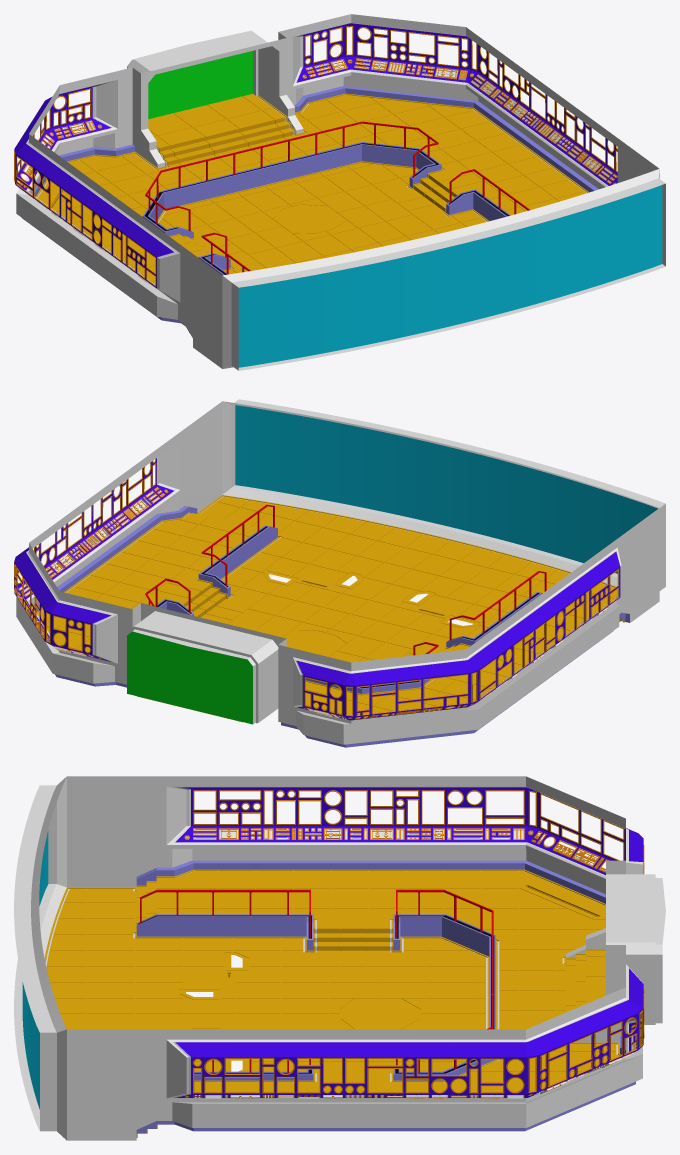
Rendered from BridgeV66.fbx.
The picture shows the model from 3 angles, top to bottom: view 1: azimuth 30°, elevation 25°; view 2: azimuth 150°, elevation 25°; view 3: azimuth 270°, elevation 25°; orthographic projection. The views are drawn at different scales.
Parts seen in each view (by area): view 1: Bridge; view 2: Bridge, BridgeLightStrip; view 3: Bridge, BridgeLightStrip.
Boxes of the visible parts, box(x1,y1,x2,y2) form: Bridge: box(14, 14, 665, 370); Bridge: box(14, 399, 665, 747); BridgeLightStrip: box(37, 496, 624, 686); Bridge: box(14, 776, 665, 1140); BridgeLightStrip: box(45, 871, 619, 1082).
Size of what is drawn, in the model's own units: 18.67 by 3.74 by 19.15.
